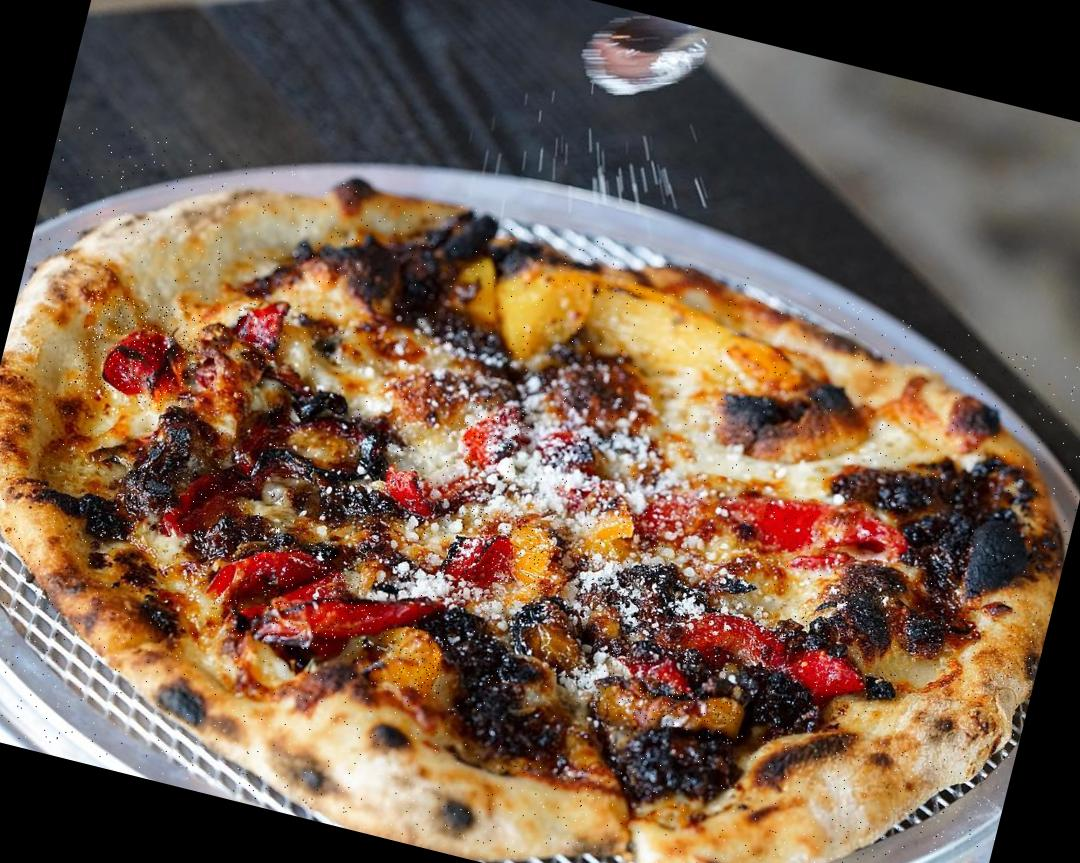Peppers: (204, 516, 390, 665), (662, 586, 871, 708), (68, 288, 210, 414), (688, 470, 866, 560), (588, 668, 747, 746), (443, 500, 564, 600), (362, 437, 470, 540), (160, 450, 262, 550), (368, 620, 454, 700), (455, 394, 534, 476), (572, 501, 642, 570), (230, 305, 293, 367)
Pizza: (0, 106, 1080, 863)
